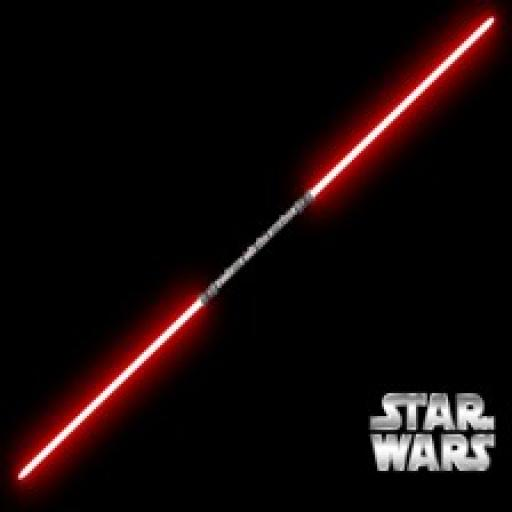lightsaber: (14, 13, 503, 479)
